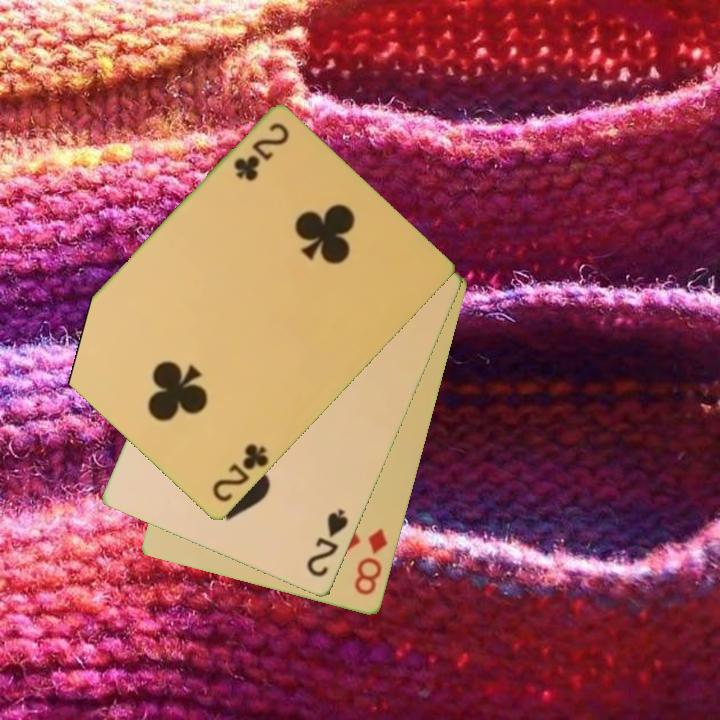2c: (209, 440, 272, 506), (230, 119, 292, 185)
2s: (303, 505, 352, 581)
8d: (351, 525, 391, 599)
